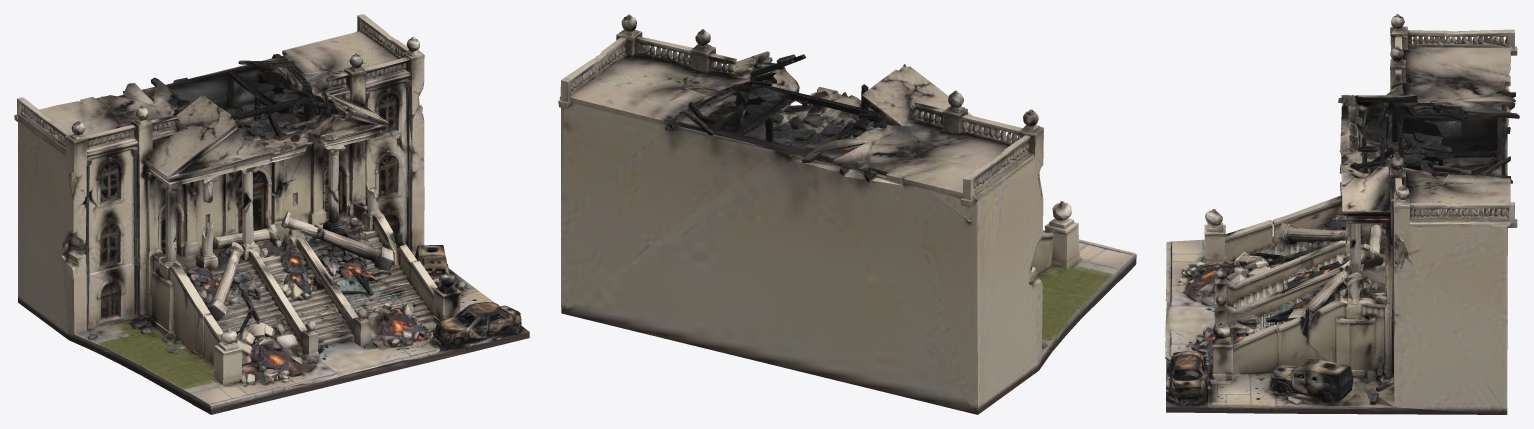
Rendered from universita_dev.glb.
The picture shows the model from 3 angles, left to right: view 1: azimuth 30°, elevation 25°; view 2: azimuth 150°, elevation 25°; view 3: azimuth 270°, elevation 25°; orthographic projection. The views are drawn at different scales.
Visible parts, largest first — view 1: output_unwrapped; view 2: output_unwrapped; view 3: output_unwrapped.
Boxes of the visible parts, bbox=[...] form: output_unwrapped: bbox=[14, 14, 529, 414]; output_unwrapped: bbox=[558, 14, 1136, 414]; output_unwrapped: bbox=[1165, 14, 1519, 414].
Size of the model in its own units: 1.9 by 1.12 by 1.59.
1 material, 1 textured.
